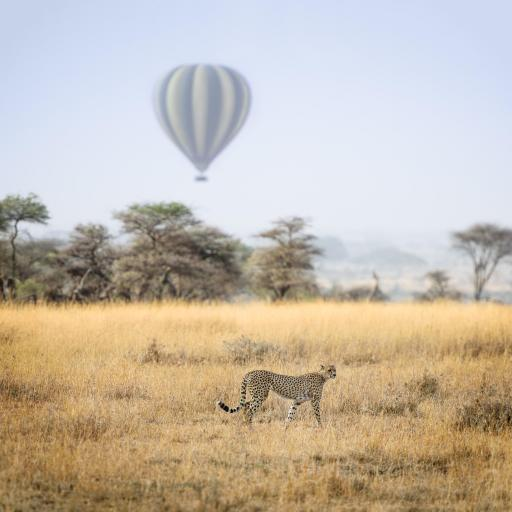hot air ballon: (153, 65, 251, 181)
